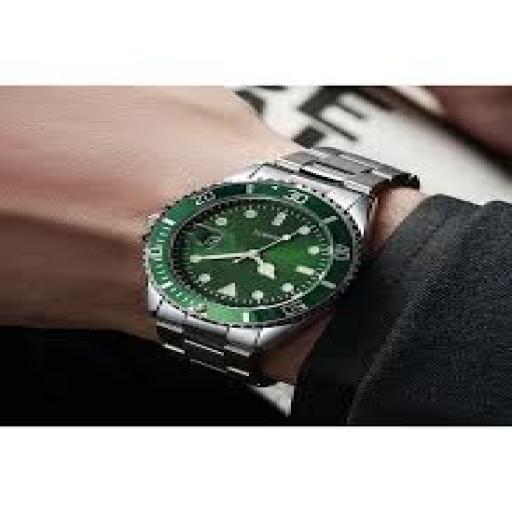KolSaati: (78, 120, 441, 396)
